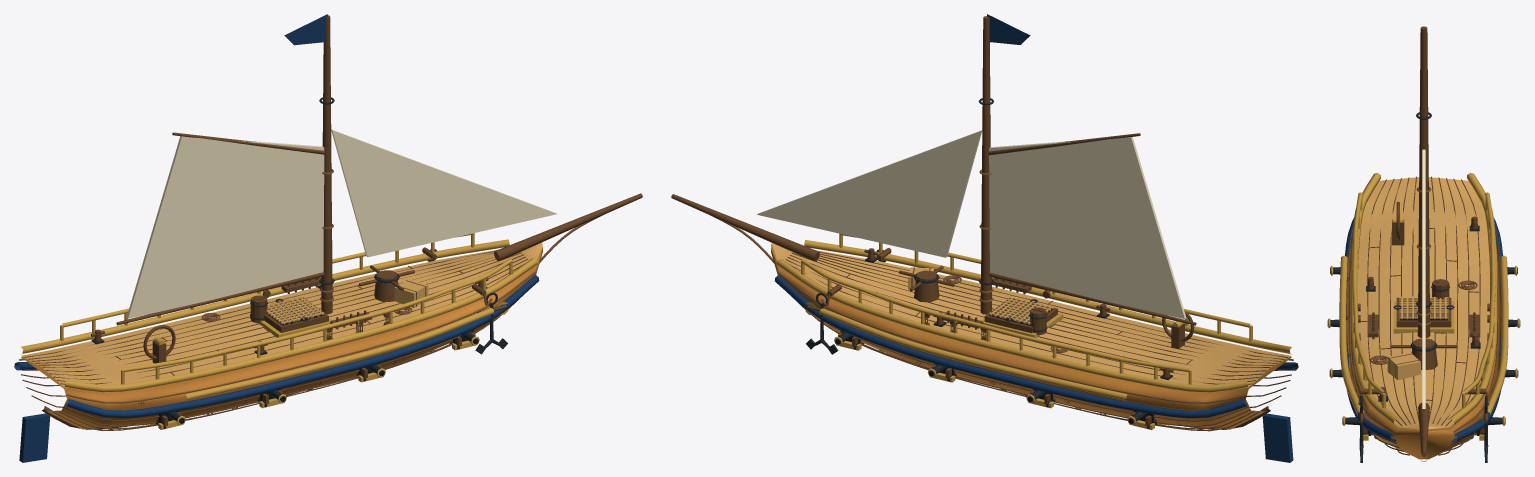
Rendered from sloop.glb.
3 views of the same model, side by side, from view 1: azimuth 30°, elevation 25°; view 2: azimuth 150°, elevation 25°; view 3: azimuth 270°, elevation 25° (orthographic). The views are drawn at different scales.
Visible parts, largest first — view 1: SailSurface_0, Mesh_Batch_2, Mesh_Batch_4, SailSurface_1, Mesh_Batch_0, Mesh_Batch_6, Mesh_Batch_11, Mesh_Batch_5, Mesh_Batch_14, Mesh_Batch_22, Mesh_Batch_13, Mesh_Batch_10 (+1 smaller); view 2: SailSurface_0, Mesh_Batch_2, Mesh_Batch_4, SailSurface_1, Mesh_Batch_0, Mesh_Batch_6, Mesh_Batch_11, Mesh_Batch_5, Mesh_Batch_13, Mesh_Batch_22, Mesh_Batch_10, Mesh_Batch_14 (+1 smaller); view 3: Mesh_Batch_2, Mesh_Batch_4, Mesh_Batch_6, Mesh_Batch_11, Mesh_Batch_0, Mesh_Batch_13, Mesh_Batch_14, Mesh_Batch_5, SailSurface_1, Mesh_Batch_9, Mesh_Batch_10, Mesh_Batch_16.
Part boxes in pixels (left/top/right/bottom): SailSurface_0: left=126, top=136, right=324, bottom=318; Mesh_Batch_2: left=21, top=242, right=542, bottom=392; Mesh_Batch_4: left=21, top=233, right=537, bottom=429; SailSurface_1: left=331, top=129, right=556, bottom=257; Mesh_Batch_0: left=21, top=246, right=542, bottom=429; Mesh_Batch_6: left=42, top=15, right=642, bottom=429; Mesh_Batch_11: left=18, top=251, right=527, bottom=430; Mesh_Batch_5: left=14, top=14, right=539, bottom=462; Mesh_Batch_14: left=266, top=279, right=428, bottom=324; Mesh_Batch_22: left=116, top=132, right=325, bottom=325; Mesh_Batch_13: left=91, top=97, right=507, bottom=428; Mesh_Batch_10: left=19, top=271, right=536, bottom=403; SailSurface_0: left=989, top=137, right=1186, bottom=318; Mesh_Batch_2: left=771, top=243, right=1291, bottom=392; Mesh_Batch_4: left=776, top=233, right=1292, bottom=429; SailSurface_1: left=757, top=130, right=982, bottom=257; Mesh_Batch_0: left=771, top=247, right=1291, bottom=429; Mesh_Batch_6: left=671, top=16, right=1270, bottom=429; Mesh_Batch_11: left=785, top=251, right=1294, bottom=431; Mesh_Batch_5: left=775, top=14, right=1298, bottom=462; Mesh_Batch_13: left=806, top=98, right=1172, bottom=428; Mesh_Batch_22: left=988, top=133, right=1196, bottom=325; Mesh_Batch_10: left=777, top=272, right=1293, bottom=403; Mesh_Batch_14: left=908, top=267, right=1053, bottom=324; Mesh_Batch_2: left=1358, top=177, right=1489, bottom=429; Mesh_Batch_4: left=1328, top=173, right=1519, bottom=440; Mesh_Batch_6: left=1346, top=26, right=1501, bottom=461; Mesh_Batch_11: left=1346, top=176, right=1501, bottom=455; Mesh_Batch_0: left=1346, top=190, right=1501, bottom=459; Mesh_Batch_13: left=1327, top=112, right=1520, bottom=462; Mesh_Batch_14: left=1387, top=296, right=1448, bottom=380; Mesh_Batch_5: left=1345, top=218, right=1502, bottom=442; SailSurface_1: left=1422, top=149, right=1425, bottom=408; Mesh_Batch_9: left=1353, top=187, right=1494, bottom=405; Mesh_Batch_10: left=1349, top=238, right=1498, bottom=432; Mesh_Batch_16: left=1367, top=299, right=1480, bottom=435.
Size of the model in its own units: 10.7 by 6.19 by 2.77.
